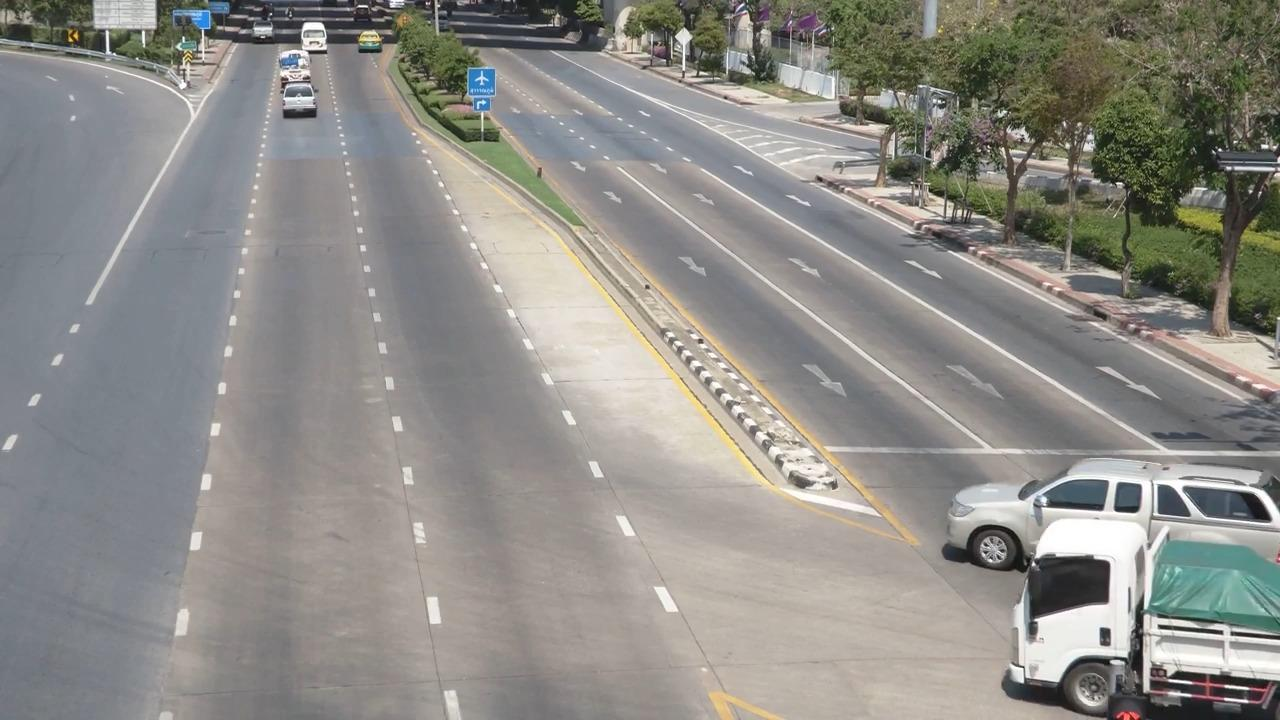CAR: (1002, 506, 1280, 720), (939, 424, 1280, 572), (272, 80, 331, 136), (271, 50, 324, 92), (240, 7, 286, 47), (299, 18, 339, 58), (350, 28, 389, 65)
